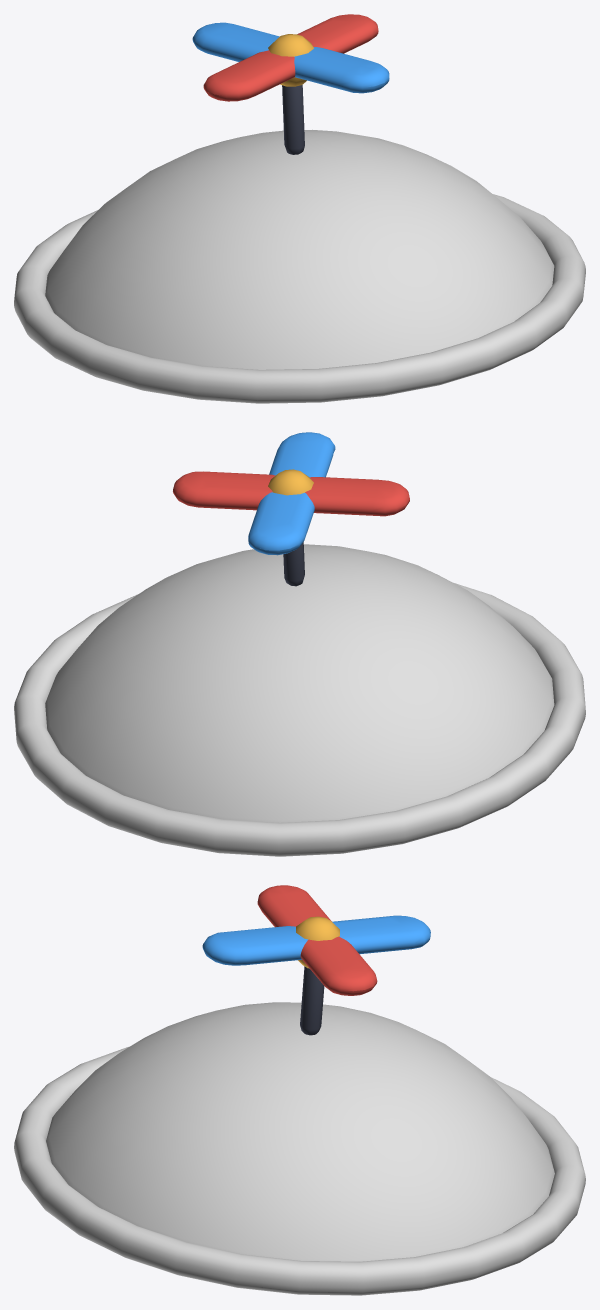
File: propeller_beanie.glb
The picture shows the model from 3 angles, top to bottom: view 1: azimuth 30°, elevation 25°; view 2: azimuth 150°, elevation 25°; view 3: azimuth 270°, elevation 25°; orthographic projection.
Visible parts, largest first — view 1: propeller_beanie; view 2: propeller_beanie; view 3: propeller_beanie.
Boxes of the visible parts, left/top/right/bottom form: propeller_beanie: left=14, top=14, right=585, bottom=403; propeller_beanie: left=14, top=432, right=585, bottom=856; propeller_beanie: left=14, top=885, right=585, bottom=1295.
Size of the model in its own units: 1.07 by 0.5737 by 1.07.
